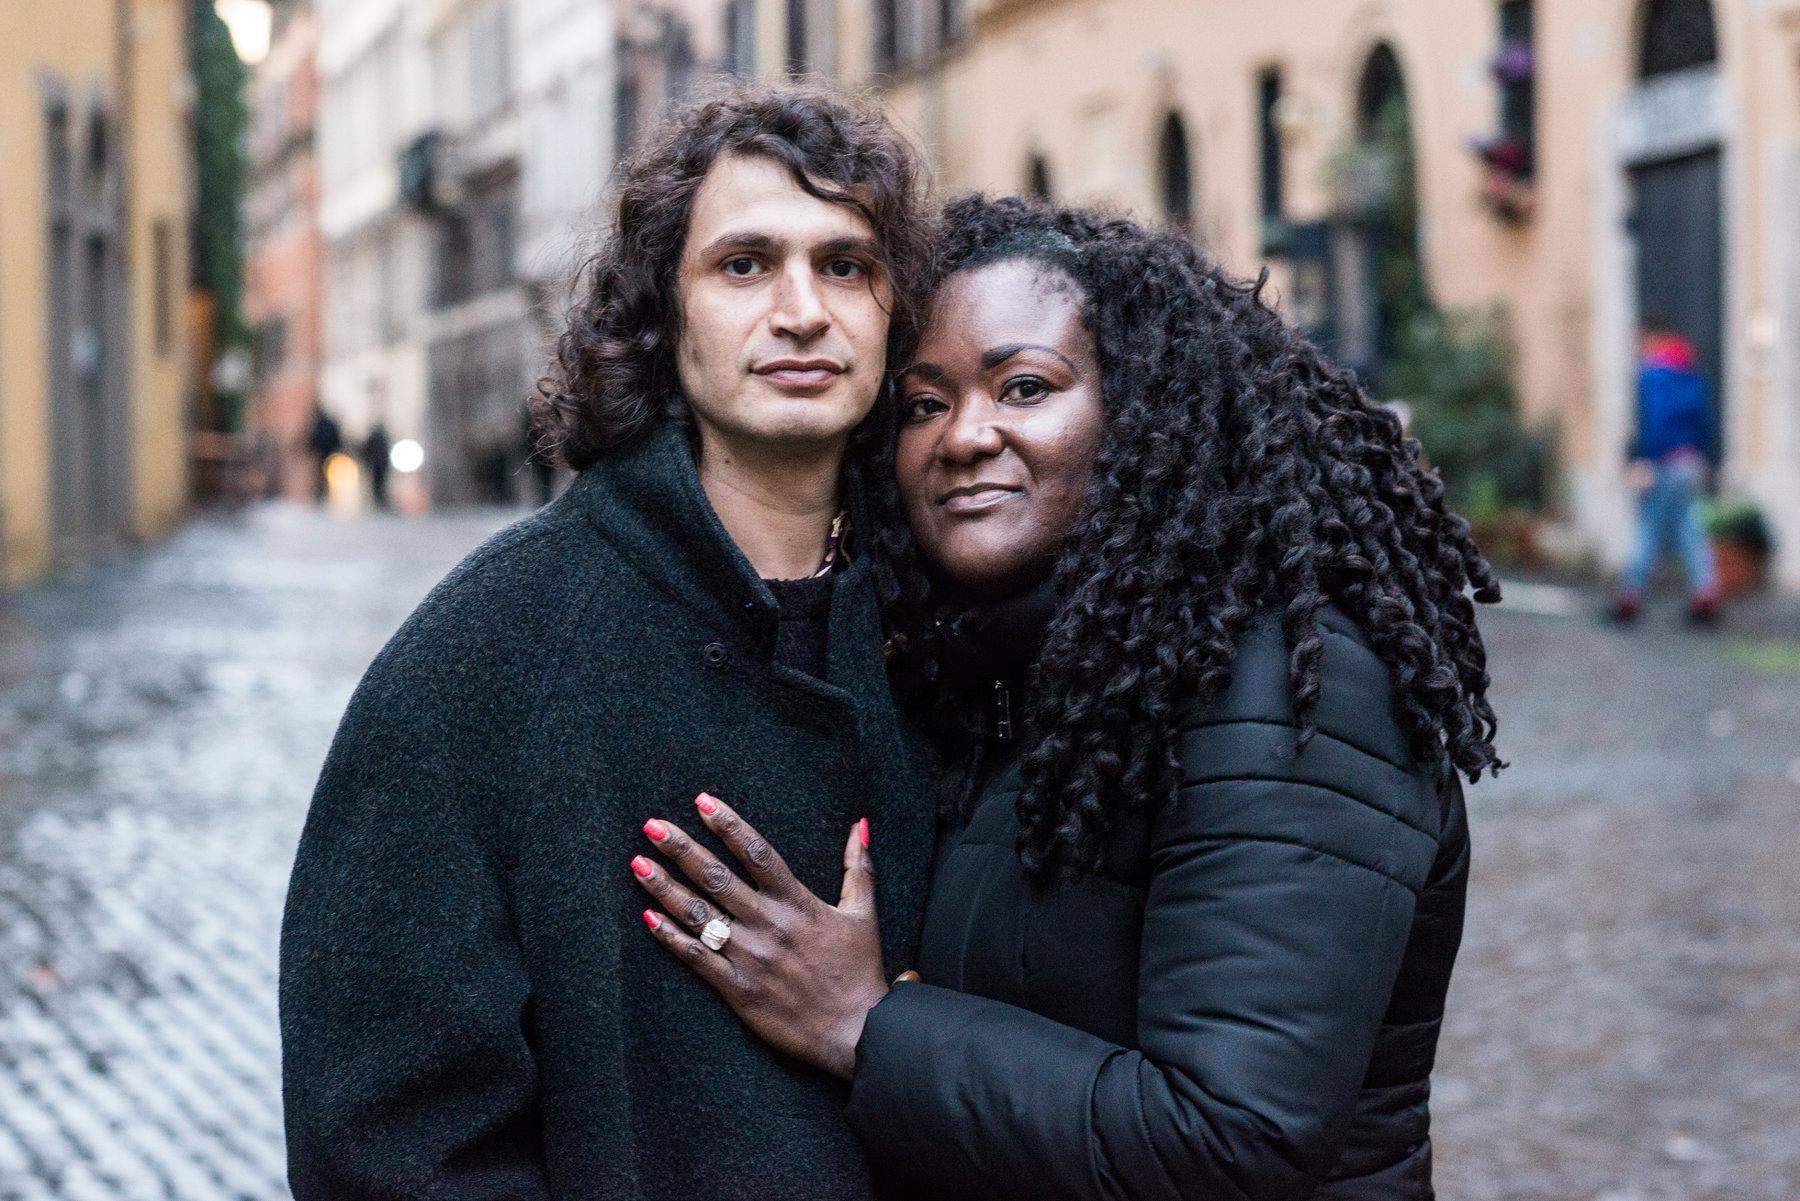Sober: (911, 281, 1100, 560), (692, 158, 877, 426)
